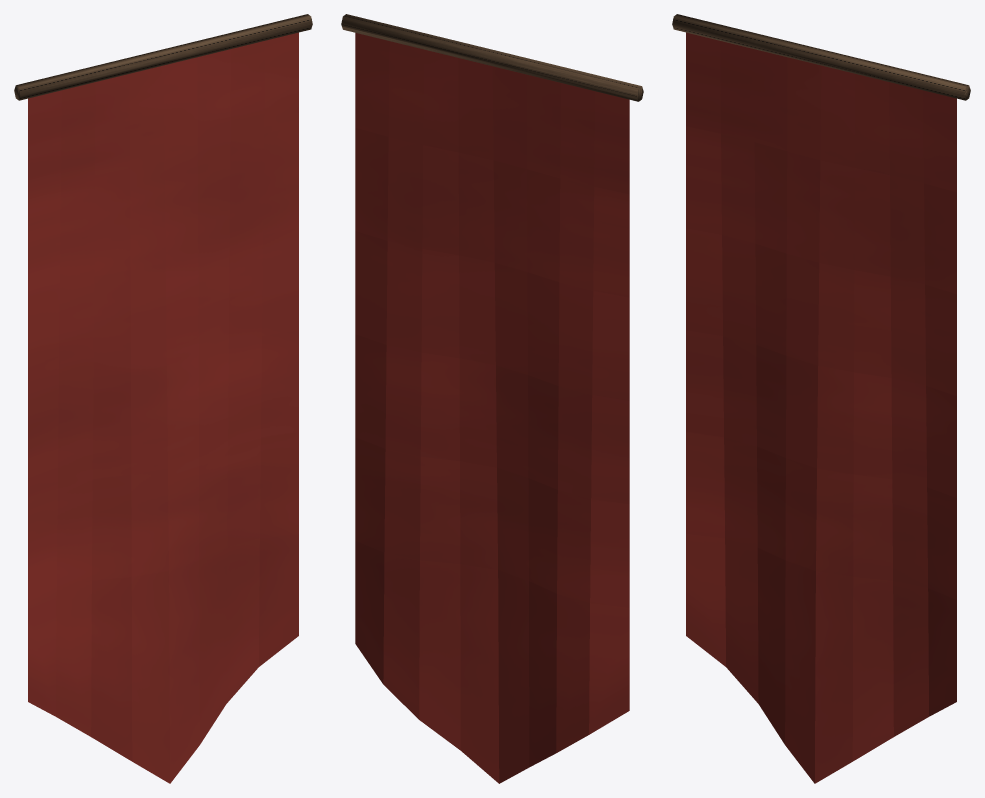
Rendered from Banner_2_Cloth.gltf.
3 renders of one model, left to right at view 1: azimuth 30°, elevation 25°; view 2: azimuth 150°, elevation 25°; view 3: azimuth 330°, elevation 25°, orthographic.
Visible parts, largest first — view 1: Banner_2_Cloth; view 2: Banner_2_Cloth; view 3: Banner_2_Cloth.
Boxes of the visible parts, x1=… form: Banner_2_Cloth: x1=14, y1=14, x2=312, y2=783; Banner_2_Cloth: x1=341, y1=14, x2=643, y2=783; Banner_2_Cloth: x1=672, y1=14, x2=970, y2=783.
Size of the model in its own units: 0.81 by 1.93 by 0.0616.
2 materials, 2 textured.
